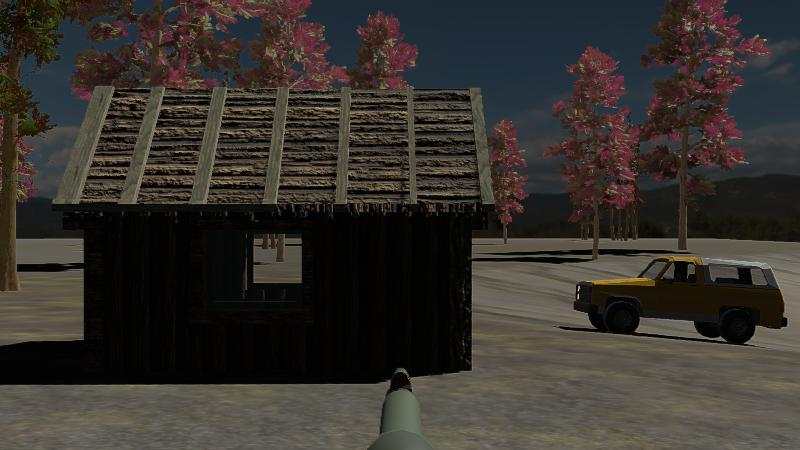House: (56, 85, 492, 385)
car: (573, 253, 789, 346)
